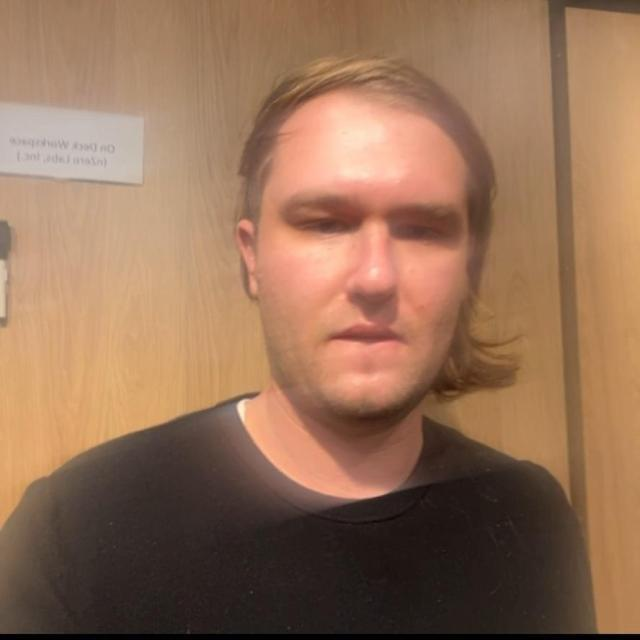no hat: (208, 16, 542, 513)
